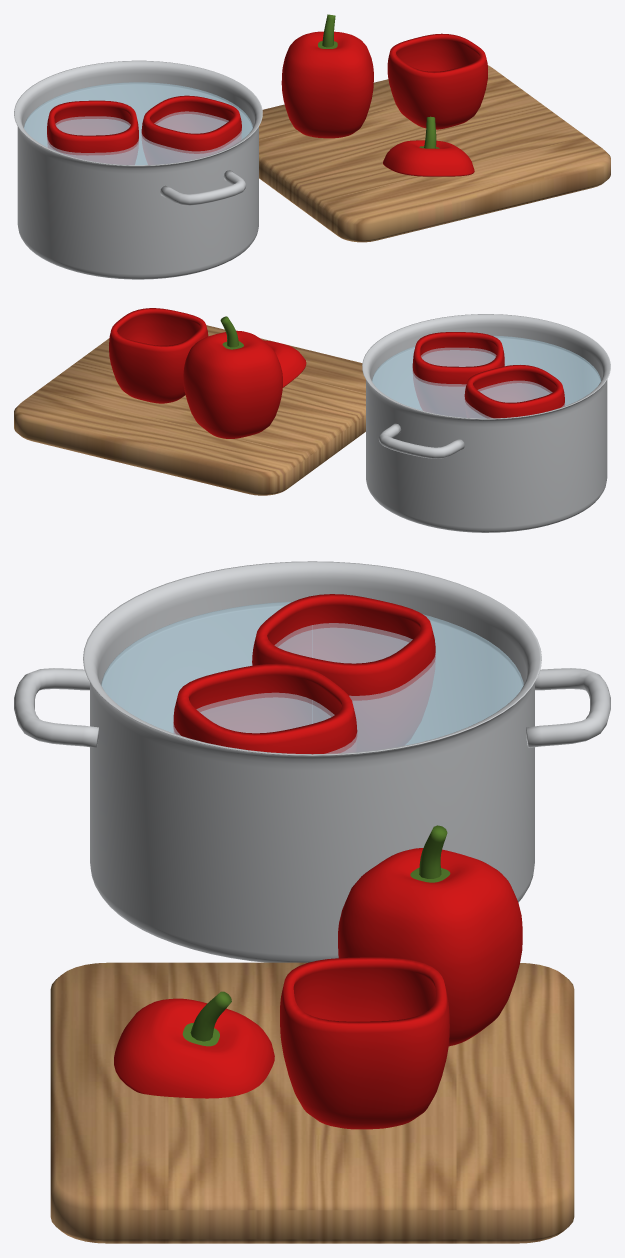
File: paso-1.glb
3 renders of one model, top to bottom at view 1: azimuth 30°, elevation 25°; view 2: azimuth 150°, elevation 25°; view 3: azimuth 270°, elevation 25°, orthographic. The views are drawn at different scales.
Visible parts, largest first — view 1: paso-1-0, paso-1-6, paso-1-3, paso-1-7, paso-1-10, paso-1-5, paso-1-4, paso-1-11, paso-1-2; view 2: paso-1-0, paso-1-6, paso-1-3, paso-1-7, paso-1-10, paso-1-5, paso-1-4, paso-1-1, paso-1-11, paso-1-8; view 3: paso-1-0, paso-1-6, paso-1-3, paso-1-10, paso-1-7, paso-1-4, paso-1-5, paso-1-11, paso-1-1, paso-1-2, paso-1-12, paso-1-8.
Boxes of the visible parts, x1,y1,x2,y2 form: paso-1-0: [14, 60, 262, 279]; paso-1-6: [259, 65, 610, 242]; paso-1-3: [23, 82, 252, 165]; paso-1-7: [281, 31, 373, 138]; paso-1-10: [387, 33, 487, 129]; paso-1-5: [141, 95, 241, 164]; paso-1-4: [47, 100, 138, 164]; paso-1-11: [383, 140, 474, 176]; paso-1-2: [160, 170, 246, 205]; paso-1-0: [362, 314, 610, 532]; paso-1-6: [14, 325, 365, 495]; paso-1-3: [372, 335, 601, 418]; paso-1-7: [183, 330, 282, 438]; paso-1-10: [109, 308, 208, 403]; paso-1-5: [412, 332, 504, 417]; paso-1-4: [464, 365, 564, 418]; paso-1-1: [378, 423, 464, 458]; paso-1-11: [263, 340, 306, 387]; paso-1-8: [220, 316, 238, 347]; paso-1-0: [83, 561, 541, 962]; paso-1-6: [50, 962, 574, 1243]; paso-1-3: [101, 601, 523, 753]; paso-1-10: [280, 957, 449, 1129]; paso-1-7: [338, 848, 522, 1046]; paso-1-4: [252, 594, 435, 751]; paso-1-5: [173, 663, 357, 754]; paso-1-11: [114, 998, 274, 1098]; paso-1-1: [526, 668, 610, 747]; paso-1-2: [14, 668, 98, 747]; paso-1-12: [190, 991, 231, 1041]; paso-1-8: [419, 825, 447, 878].
Size of the model in its own units: 0.4227 by 0.1062 by 0.228.
5 materials, 1 textured.
